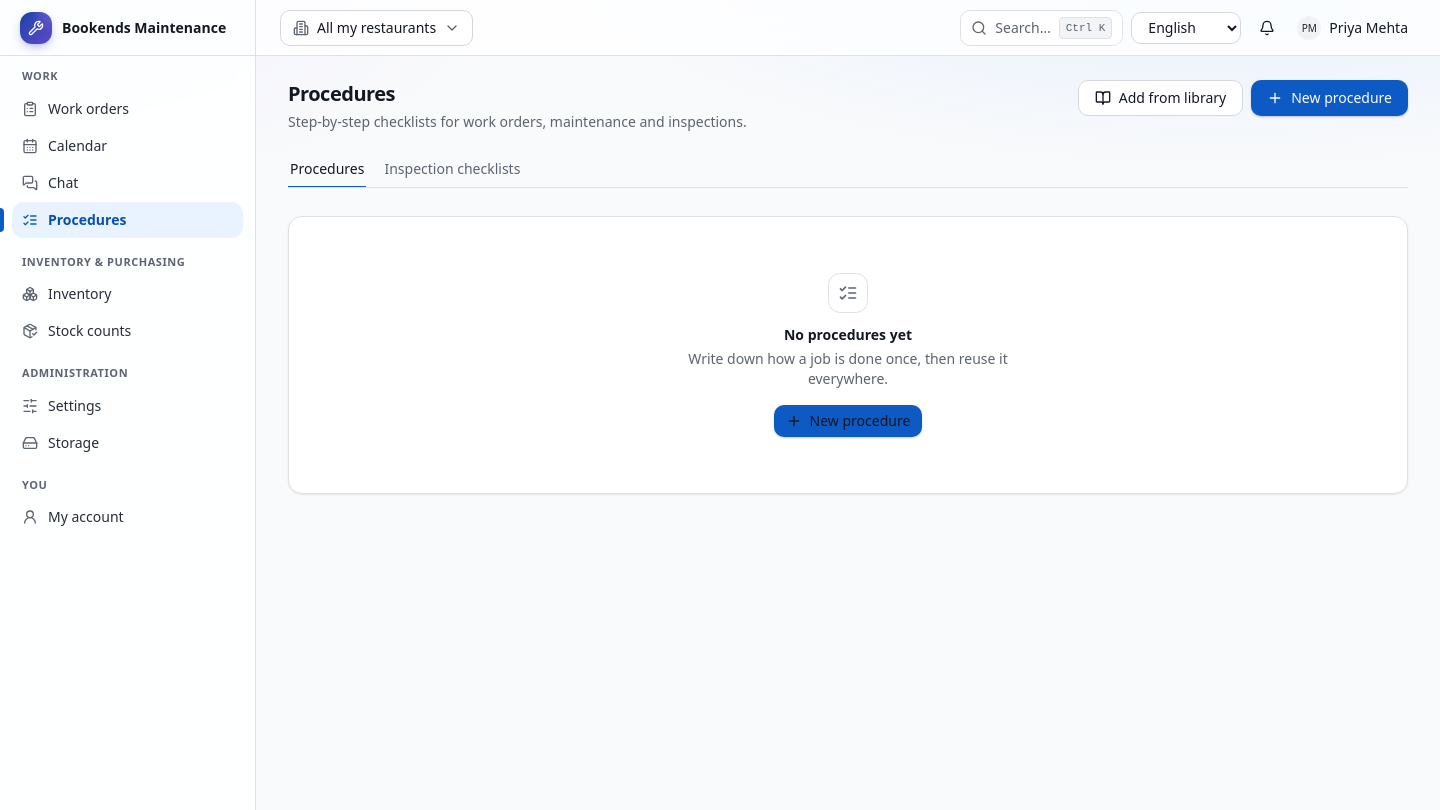
Test case: procedure library › adds a ready-made restaurant procedure in the current language
The image size is (1440, 810).
Click the button "Add from library". click: (1160, 98)
box: [1078,80,1243,116]
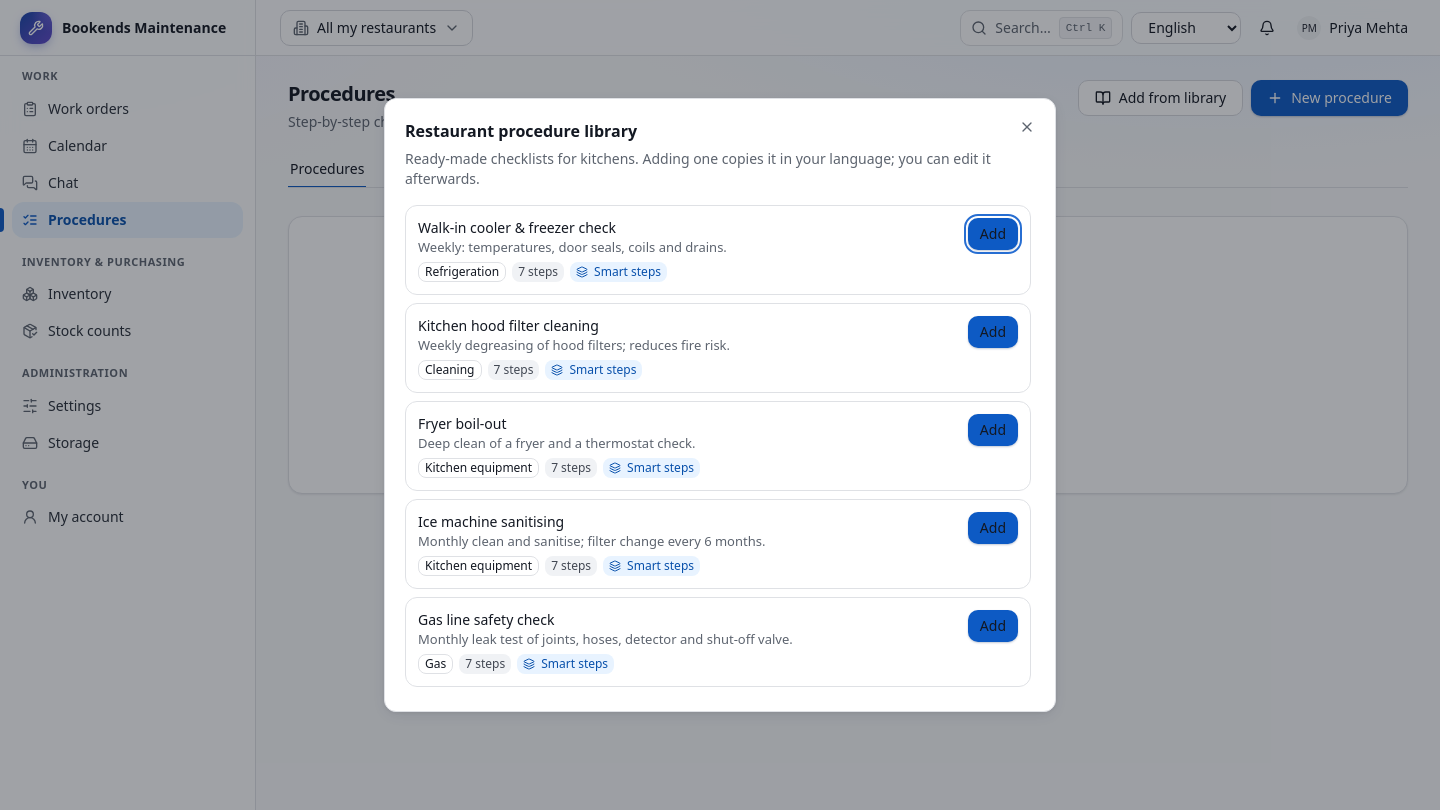
Click the button with aria-label "Add Gas line safety check". click: (993, 626)
box: [968,610,1018,642]
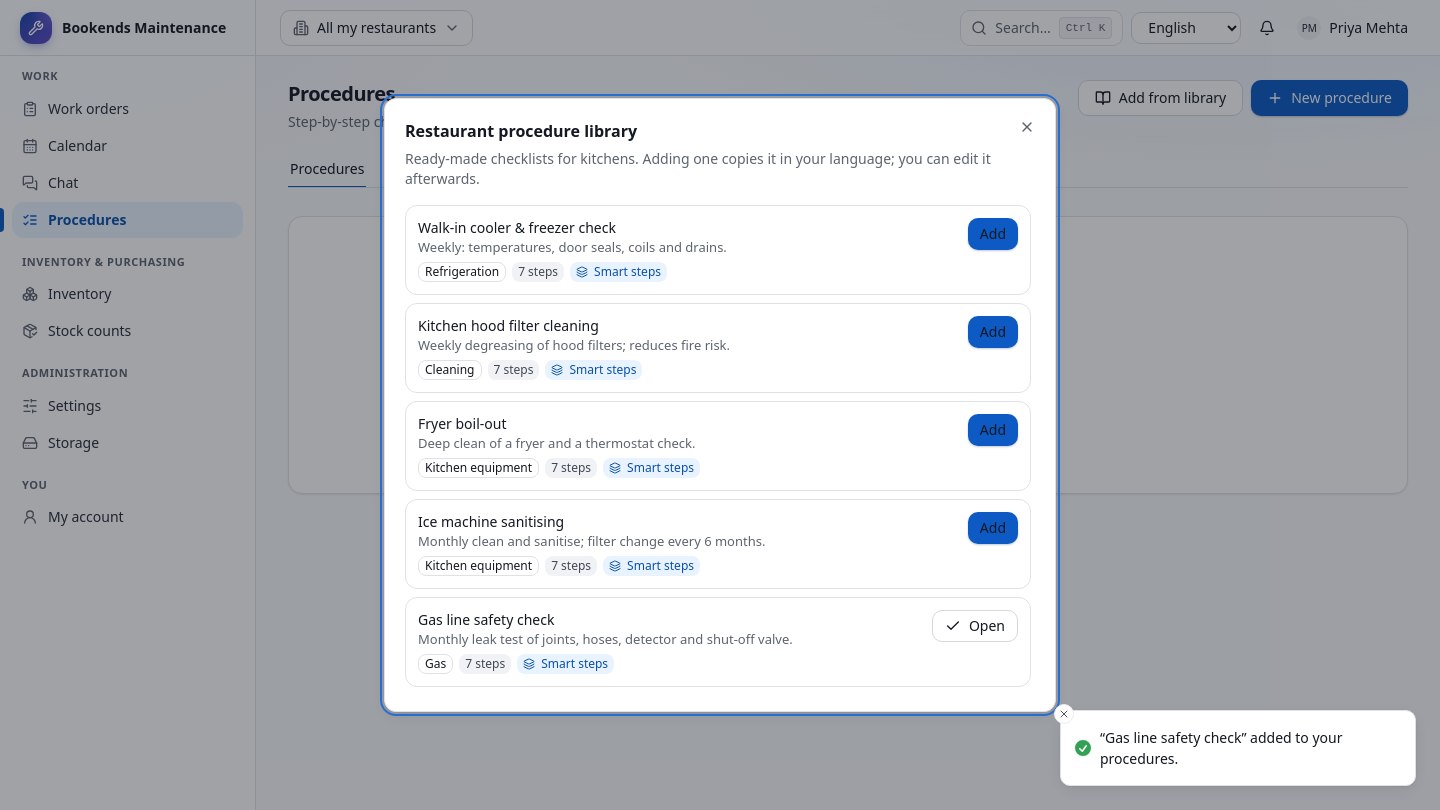
Now the button "Open" is shown, box [932,610,1018,642]
